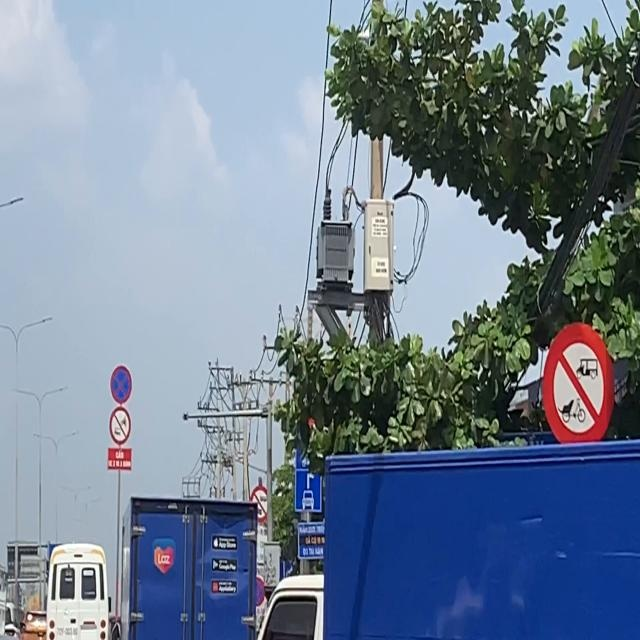bien_cam: (110, 365, 132, 405)
